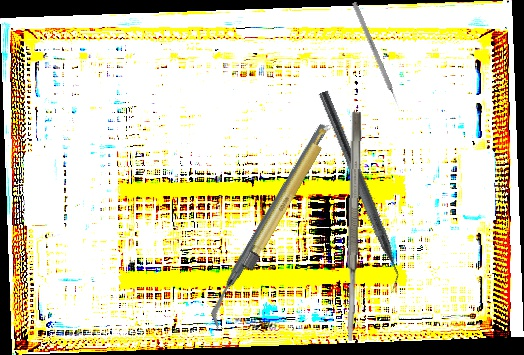Chopper: (152, 120, 386, 333), (305, 90, 411, 295)
Hook Surgical: (351, 1, 402, 110)
Scalpel Handle: (240, 121, 336, 272)
Spatula Surgical: (342, 111, 364, 342)
